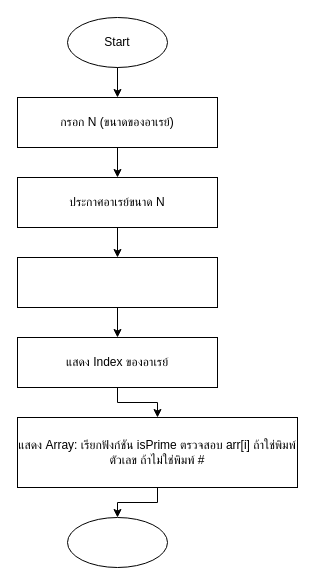
This 315x585 diagram has some shape labels left out. The centre of each missing label's shape, as x and y in pixels:
"Stop" belongs at [117,542].
"วนลูป i=0 ถึง N-1 รับค่า arr[i]" belongs at [117,282].
